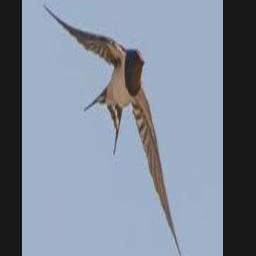Swallow: (42, 4, 188, 256)
